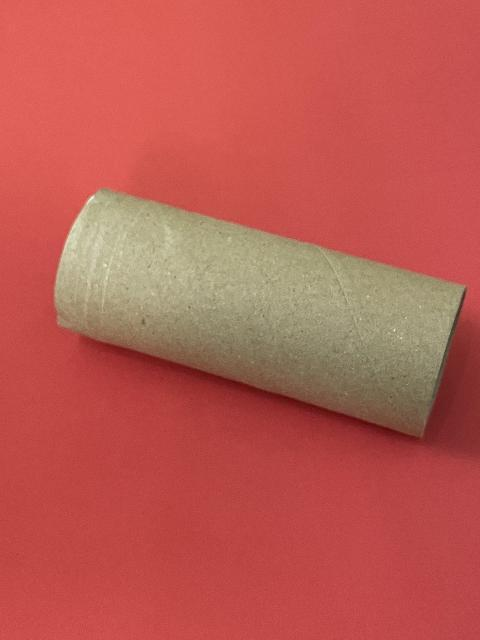tissueroll: (53, 186, 468, 440)
